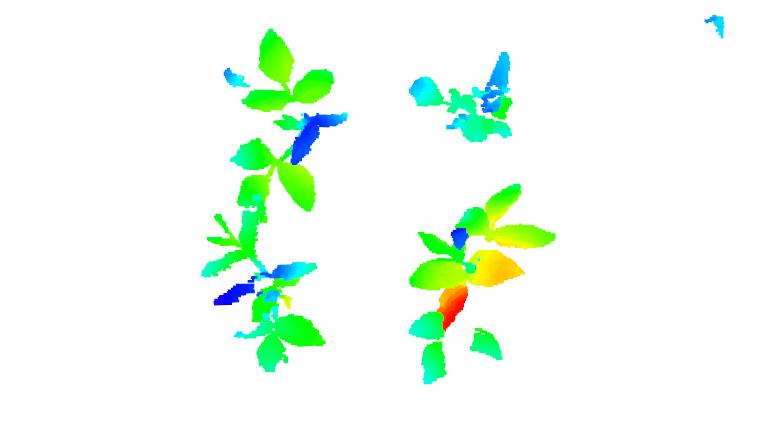mungbean: (403, 182, 560, 388), (222, 26, 348, 214), (200, 210, 331, 376), (407, 49, 520, 148)
